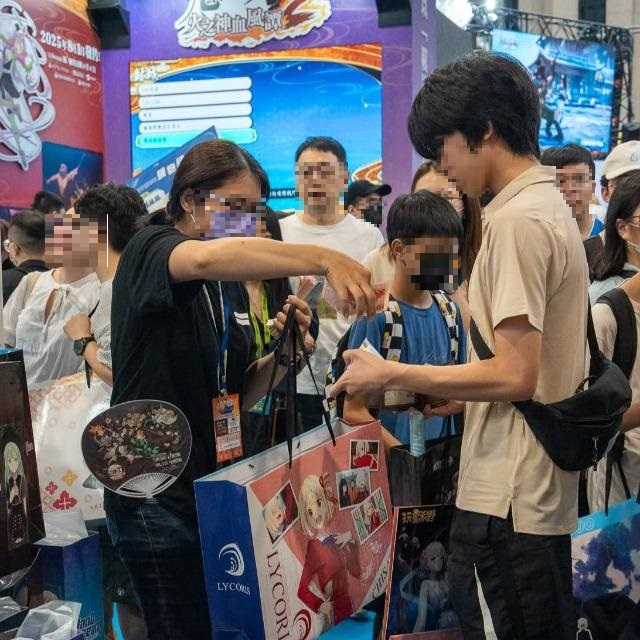NoHelmet: (406, 51, 542, 196), (383, 186, 464, 289), (292, 134, 354, 208)
